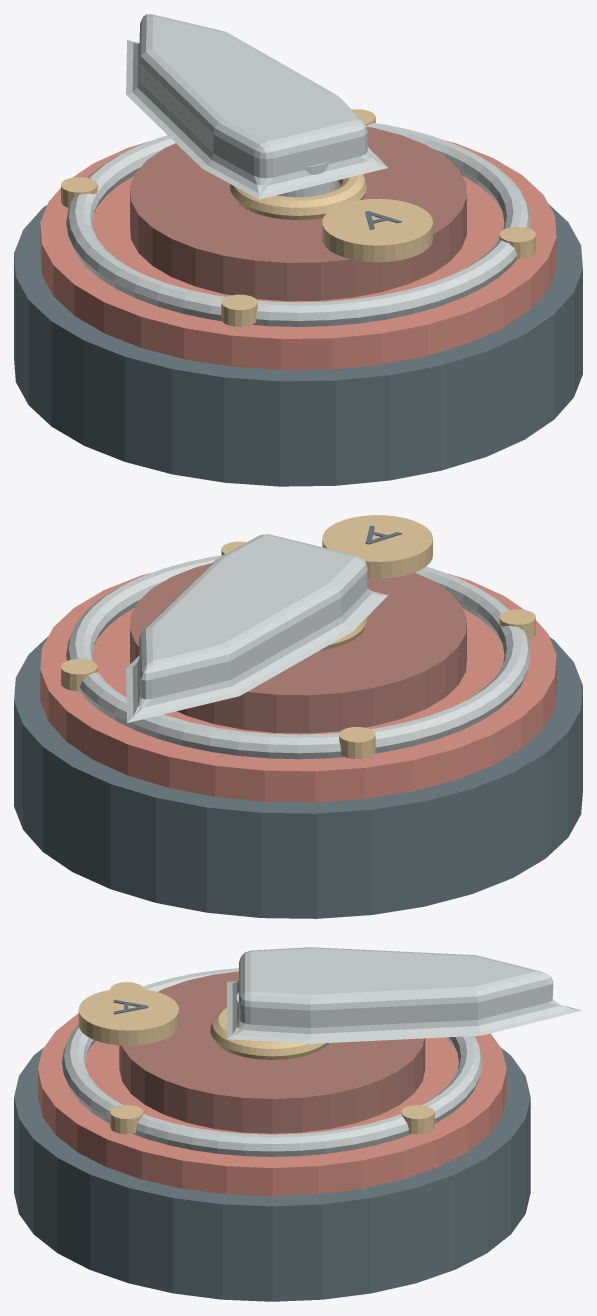
File: diverter_module.glb
The picture shows the model from 3 angles, top to bottom: view 1: azimuth 30°, elevation 25°; view 2: azimuth 150°, elevation 25°; view 3: azimuth 270°, elevation 25°; orthographic projection. The views are drawn at different scales.
Parts seen in each view (by area): view 1: ASSET_DIVERTER_BaseFoot, ASSET_DIVERTER_BasePaint, ASSET_DIVERTER_RotatingPlate, ASSET_DIVERTER_RoutingArm, ASSET_DIVERTER_OuterRing, ASSET_DIVERTER_GroupBadge, ASSET_DIVERTER_PivotRing, ASSET_DIVERTER_Fastener_180, ASSET_DIVERTER_Fastener_270, ASSET_DIVERTER_Fastener_90, ASSET_DIVERTER_PivotPin; view 2: ASSET_DIVERTER_BaseFoot, ASSET_DIVERTER_BasePaint, ASSET_DIVERTER_RoutingArm, ASSET_DIVERTER_RotatingPlate, ASSET_DIVERTER_OuterRing, ASSET_DIVERTER_GroupBadge, ASSET_DIVERTER_Fastener_90, ASSET_DIVERTER_Fastener_0, ASSET_DIVERTER_Fastener_180; view 3: ASSET_DIVERTER_BaseFoot, ASSET_DIVERTER_BasePaint, ASSET_DIVERTER_RoutingArm, ASSET_DIVERTER_RotatingPlate, ASSET_DIVERTER_OuterRing, ASSET_DIVERTER_GroupBadge, ASSET_DIVERTER_PivotRing, ASSET_DIVERTER_Fastener_0, ASSET_DIVERTER_Fastener_270.
Boxes of the visible parts, x1=… form: ASSET_DIVERTER_BaseFoot: x1=14, y1=204, x2=582, y2=486; ASSET_DIVERTER_BasePaint: x1=40, y1=140, x2=556, y2=370; ASSET_DIVERTER_RotatingPlate: x1=130, y1=126, x2=466, y2=301; ASSET_DIVERTER_RoutingArm: x1=126, y1=14, x2=387, y2=199; ASSET_DIVERTER_OuterRing: x1=66, y1=122, x2=530, y2=326; ASSET_DIVERTER_GroupBadge: x1=322, y1=198, x2=432, y2=262; ASSET_DIVERTER_PivotRing: x1=230, y1=174, x2=366, y2=219; ASSET_DIVERTER_Fastener_180: x1=221, y1=294, x2=257, y2=326; ASSET_DIVERTER_Fastener_270: x1=499, y1=226, x2=535, y2=258; ASSET_DIVERTER_Fastener_90: x1=61, y1=177, x2=97, y2=207; ASSET_DIVERTER_PivotPin: x1=277, y1=161, x2=337, y2=197; ASSET_DIVERTER_BaseFoot: x1=14, y1=636, x2=582, y2=918; ASSET_DIVERTER_BasePaint: x1=40, y1=572, x2=556, y2=802; ASSET_DIVERTER_RoutingArm: x1=126, y1=534, x2=387, y2=722; ASSET_DIVERTER_RotatingPlate: x1=130, y1=563, x2=466, y2=733; ASSET_DIVERTER_OuterRing: x1=66, y1=555, x2=530, y2=759; ASSET_DIVERTER_GroupBadge: x1=322, y1=515, x2=432, y2=578; ASSET_DIVERTER_Fastener_90: x1=339, y1=727, x2=375, y2=758; ASSET_DIVERTER_Fastener_0: x1=61, y1=659, x2=97, y2=691; ASSET_DIVERTER_Fastener_180: x1=499, y1=609, x2=535, y2=639; ASSET_DIVERTER_BaseFoot: x1=14, y1=1047, x2=530, y2=1301; ASSET_DIVERTER_BasePaint: x1=38, y1=986, x2=506, y2=1196; ASSET_DIVERTER_RoutingArm: x1=227, y1=947, x2=582, y2=1043; ASSET_DIVERTER_RotatingPlate: x1=119, y1=971, x2=425, y2=1133; ASSET_DIVERTER_OuterRing: x1=62, y1=968, x2=482, y2=1156; ASSET_DIVERTER_GroupBadge: x1=78, y1=988, x2=178, y2=1045; ASSET_DIVERTER_PivotRing: x1=210, y1=1007, x2=328, y2=1059; ASSET_DIVERTER_Fastener_0: x1=401, y1=1105, x2=434, y2=1134; ASSET_DIVERTER_Fastener_270: x1=110, y1=1105, x2=143, y2=1134.
Size of the model in its own units: 1.08 by 0.51 by 1.19.
